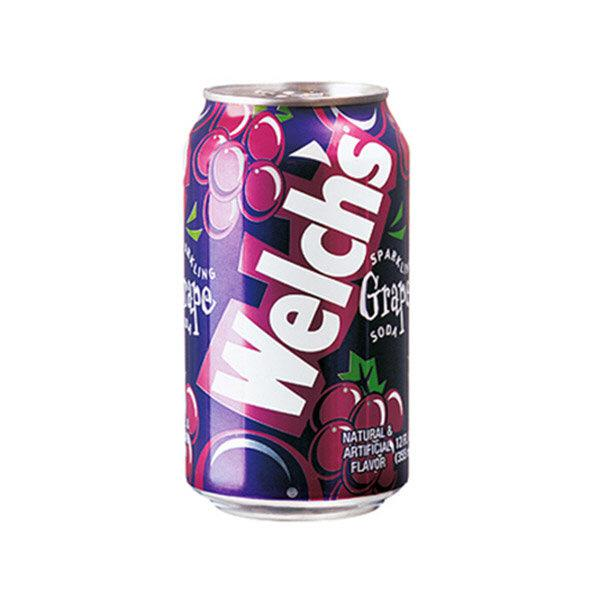welchs_grape: (168, 64, 429, 522)
